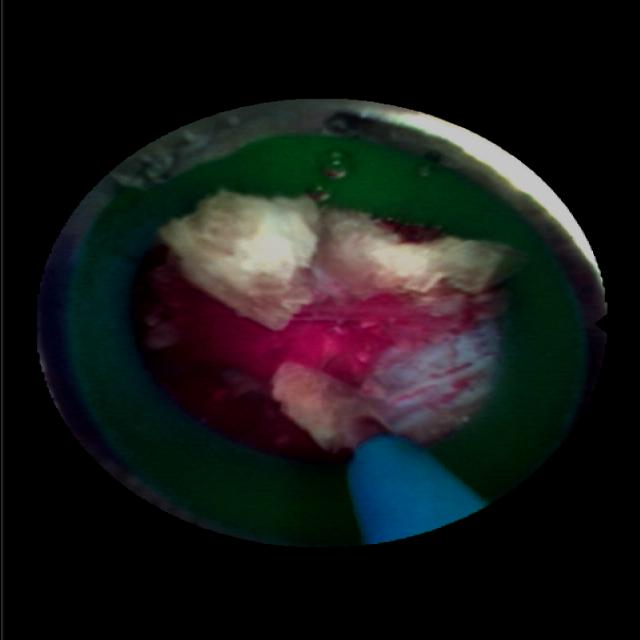fiber: (347, 442, 478, 543)
stone: (160, 197, 519, 328), (273, 362, 394, 453)
